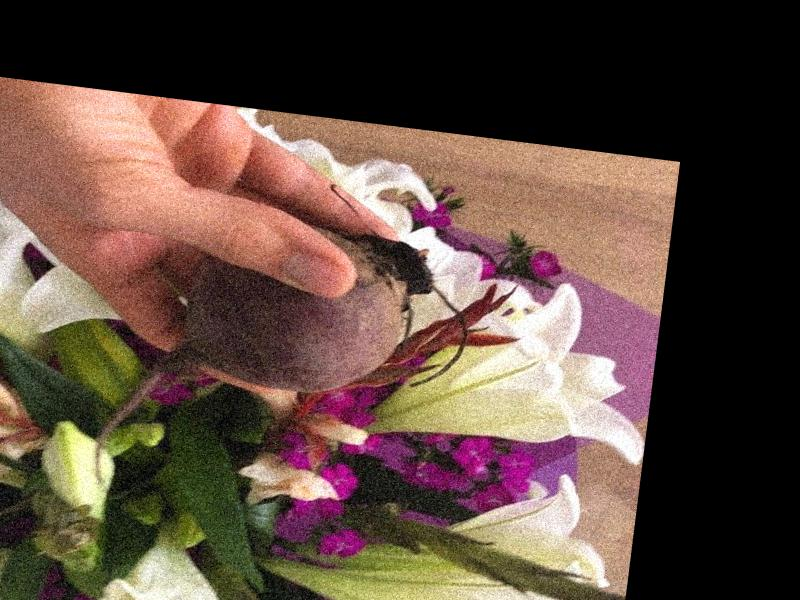Beet: (89, 203, 478, 529)
